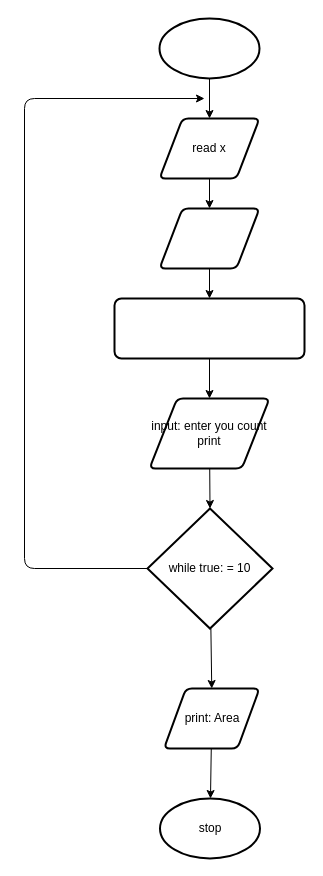
Some shapes in this 323 by 876 pixel diagram are drawn without their labels. Here are the shapes that lost their labels. From the top down, the box of each, then its label:
(158, 17, 260, 79): start
(158, 207, 260, 269): read y
(113, 297, 305, 359): Area = (x * y) /2
